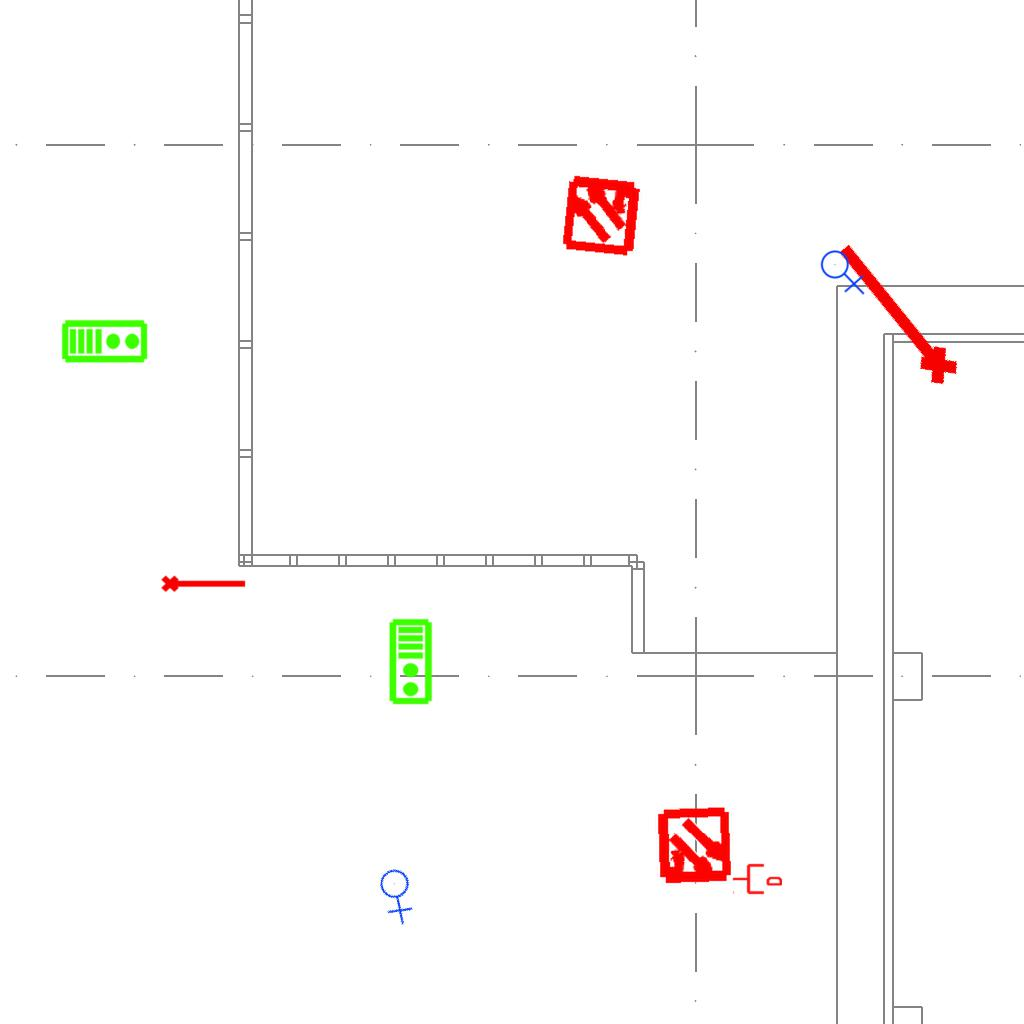ASR_Ansaugoeffnung: (820, 231, 968, 397), (160, 571, 248, 594)
Datenanschluss_einfach: (732, 862, 782, 896)
Elektroanschluss_allgemein_230V_Geraeteanschlussdose_230V: (365, 860, 432, 927), (820, 246, 867, 295)
Gegensprechanlage_mit_Video: (388, 618, 435, 706), (61, 317, 149, 364)
OT_Multisensormelder_(Kombination_RMO_WMD): (539, 151, 664, 276), (636, 789, 753, 906)
